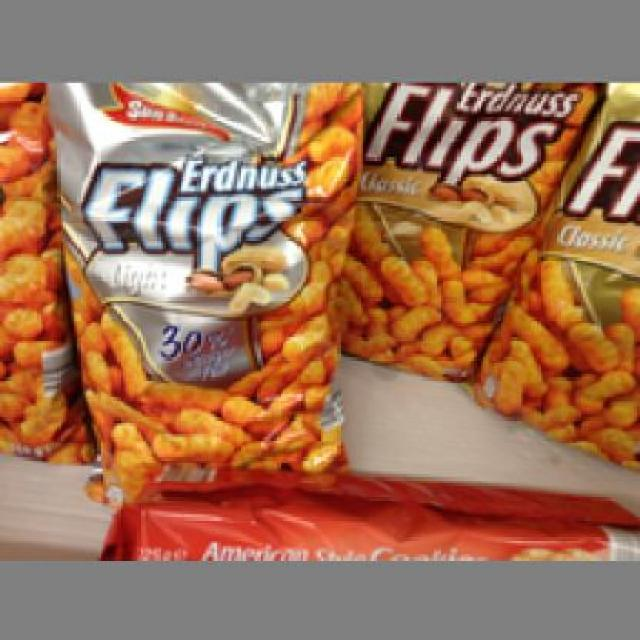Chips: (43, 80, 357, 494), (346, 82, 554, 392), (500, 80, 637, 449)
